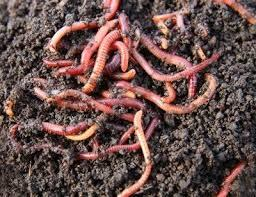insect: (104, 71, 220, 116), (52, 18, 119, 82), (44, 0, 122, 54), (27, 84, 152, 116), (5, 115, 95, 158), (80, 118, 163, 162), (133, 46, 221, 83), (115, 108, 151, 197), (81, 29, 122, 96), (213, 159, 250, 197), (152, 9, 190, 34), (107, 38, 129, 76)
